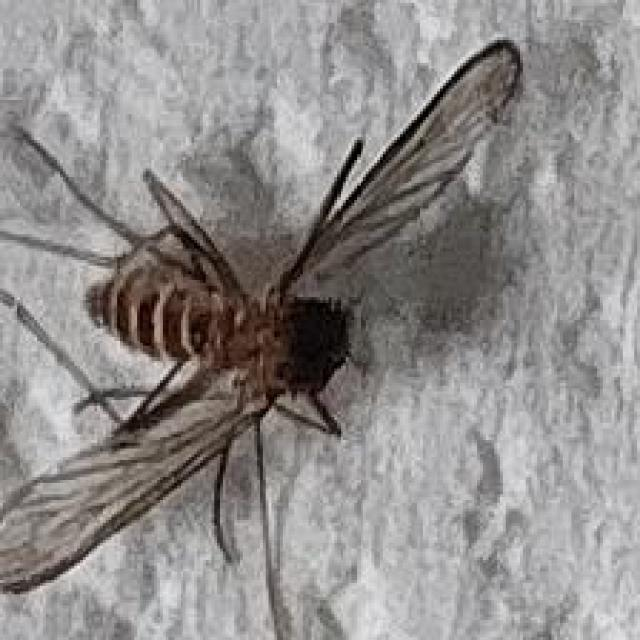Culex: (0, 37, 526, 640)
